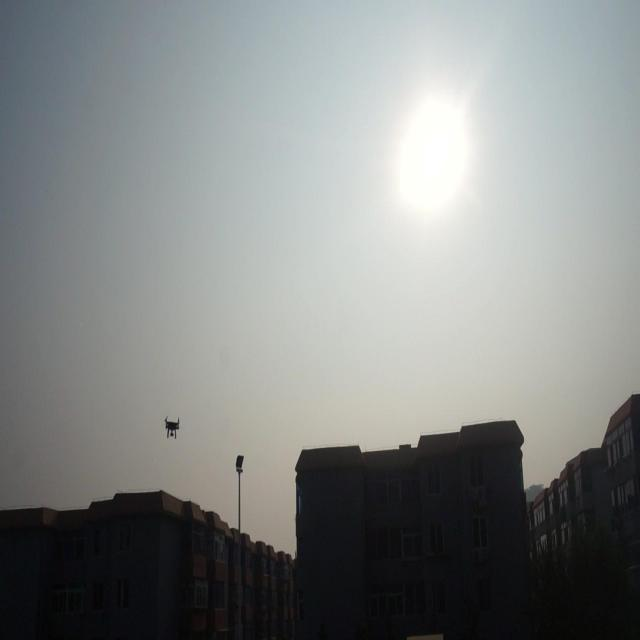UAV: (164, 416, 180, 439)
